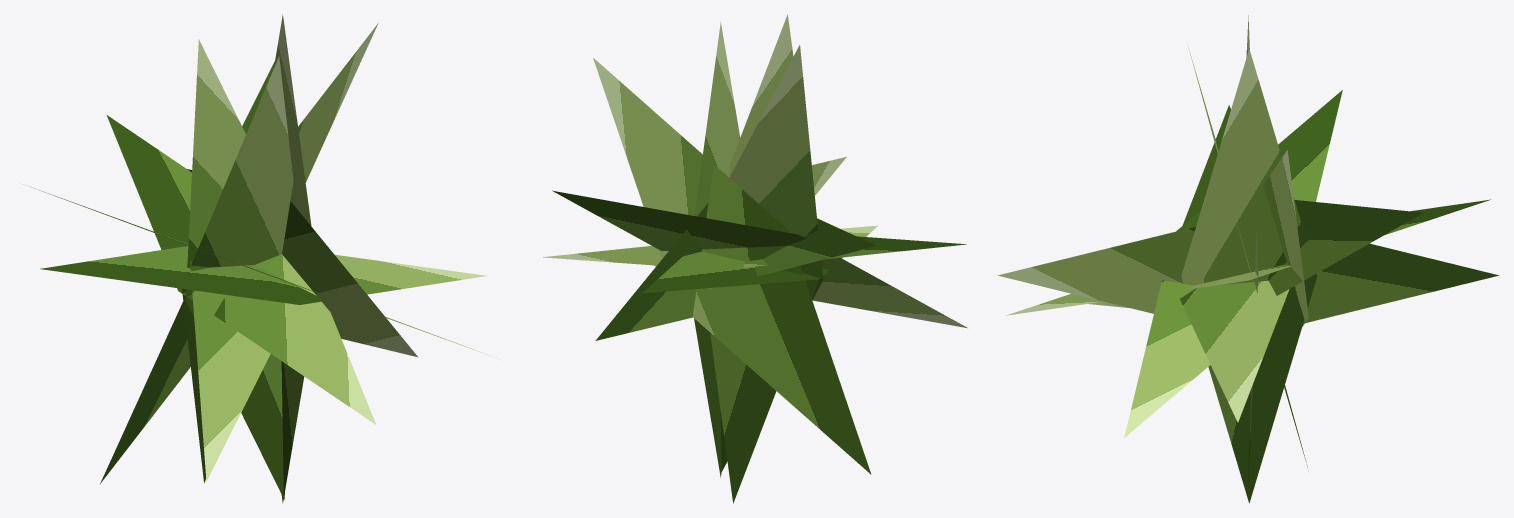
File: grass.glb
3 renders of one model, left to right at view 1: azimuth 30°, elevation 25°; view 2: azimuth 150°, elevation 25°; view 3: azimuth 270°, elevation 25°, orthographic. The views are drawn at different scales.
Visible parts, largest first — view 1: grass; view 2: grass; view 3: grass.
Part boxes in pixels (x1=…): grass: x1=31, y1=14, x2=497, y2=502; grass: x1=543, y1=14, x2=967, y2=503; grass: x1=997, y1=15, x2=1499, y2=503.
Size of the model in its own units: 2.74 by 2.83 by 2.83.
Materials: 1 (1 with a texture image).
